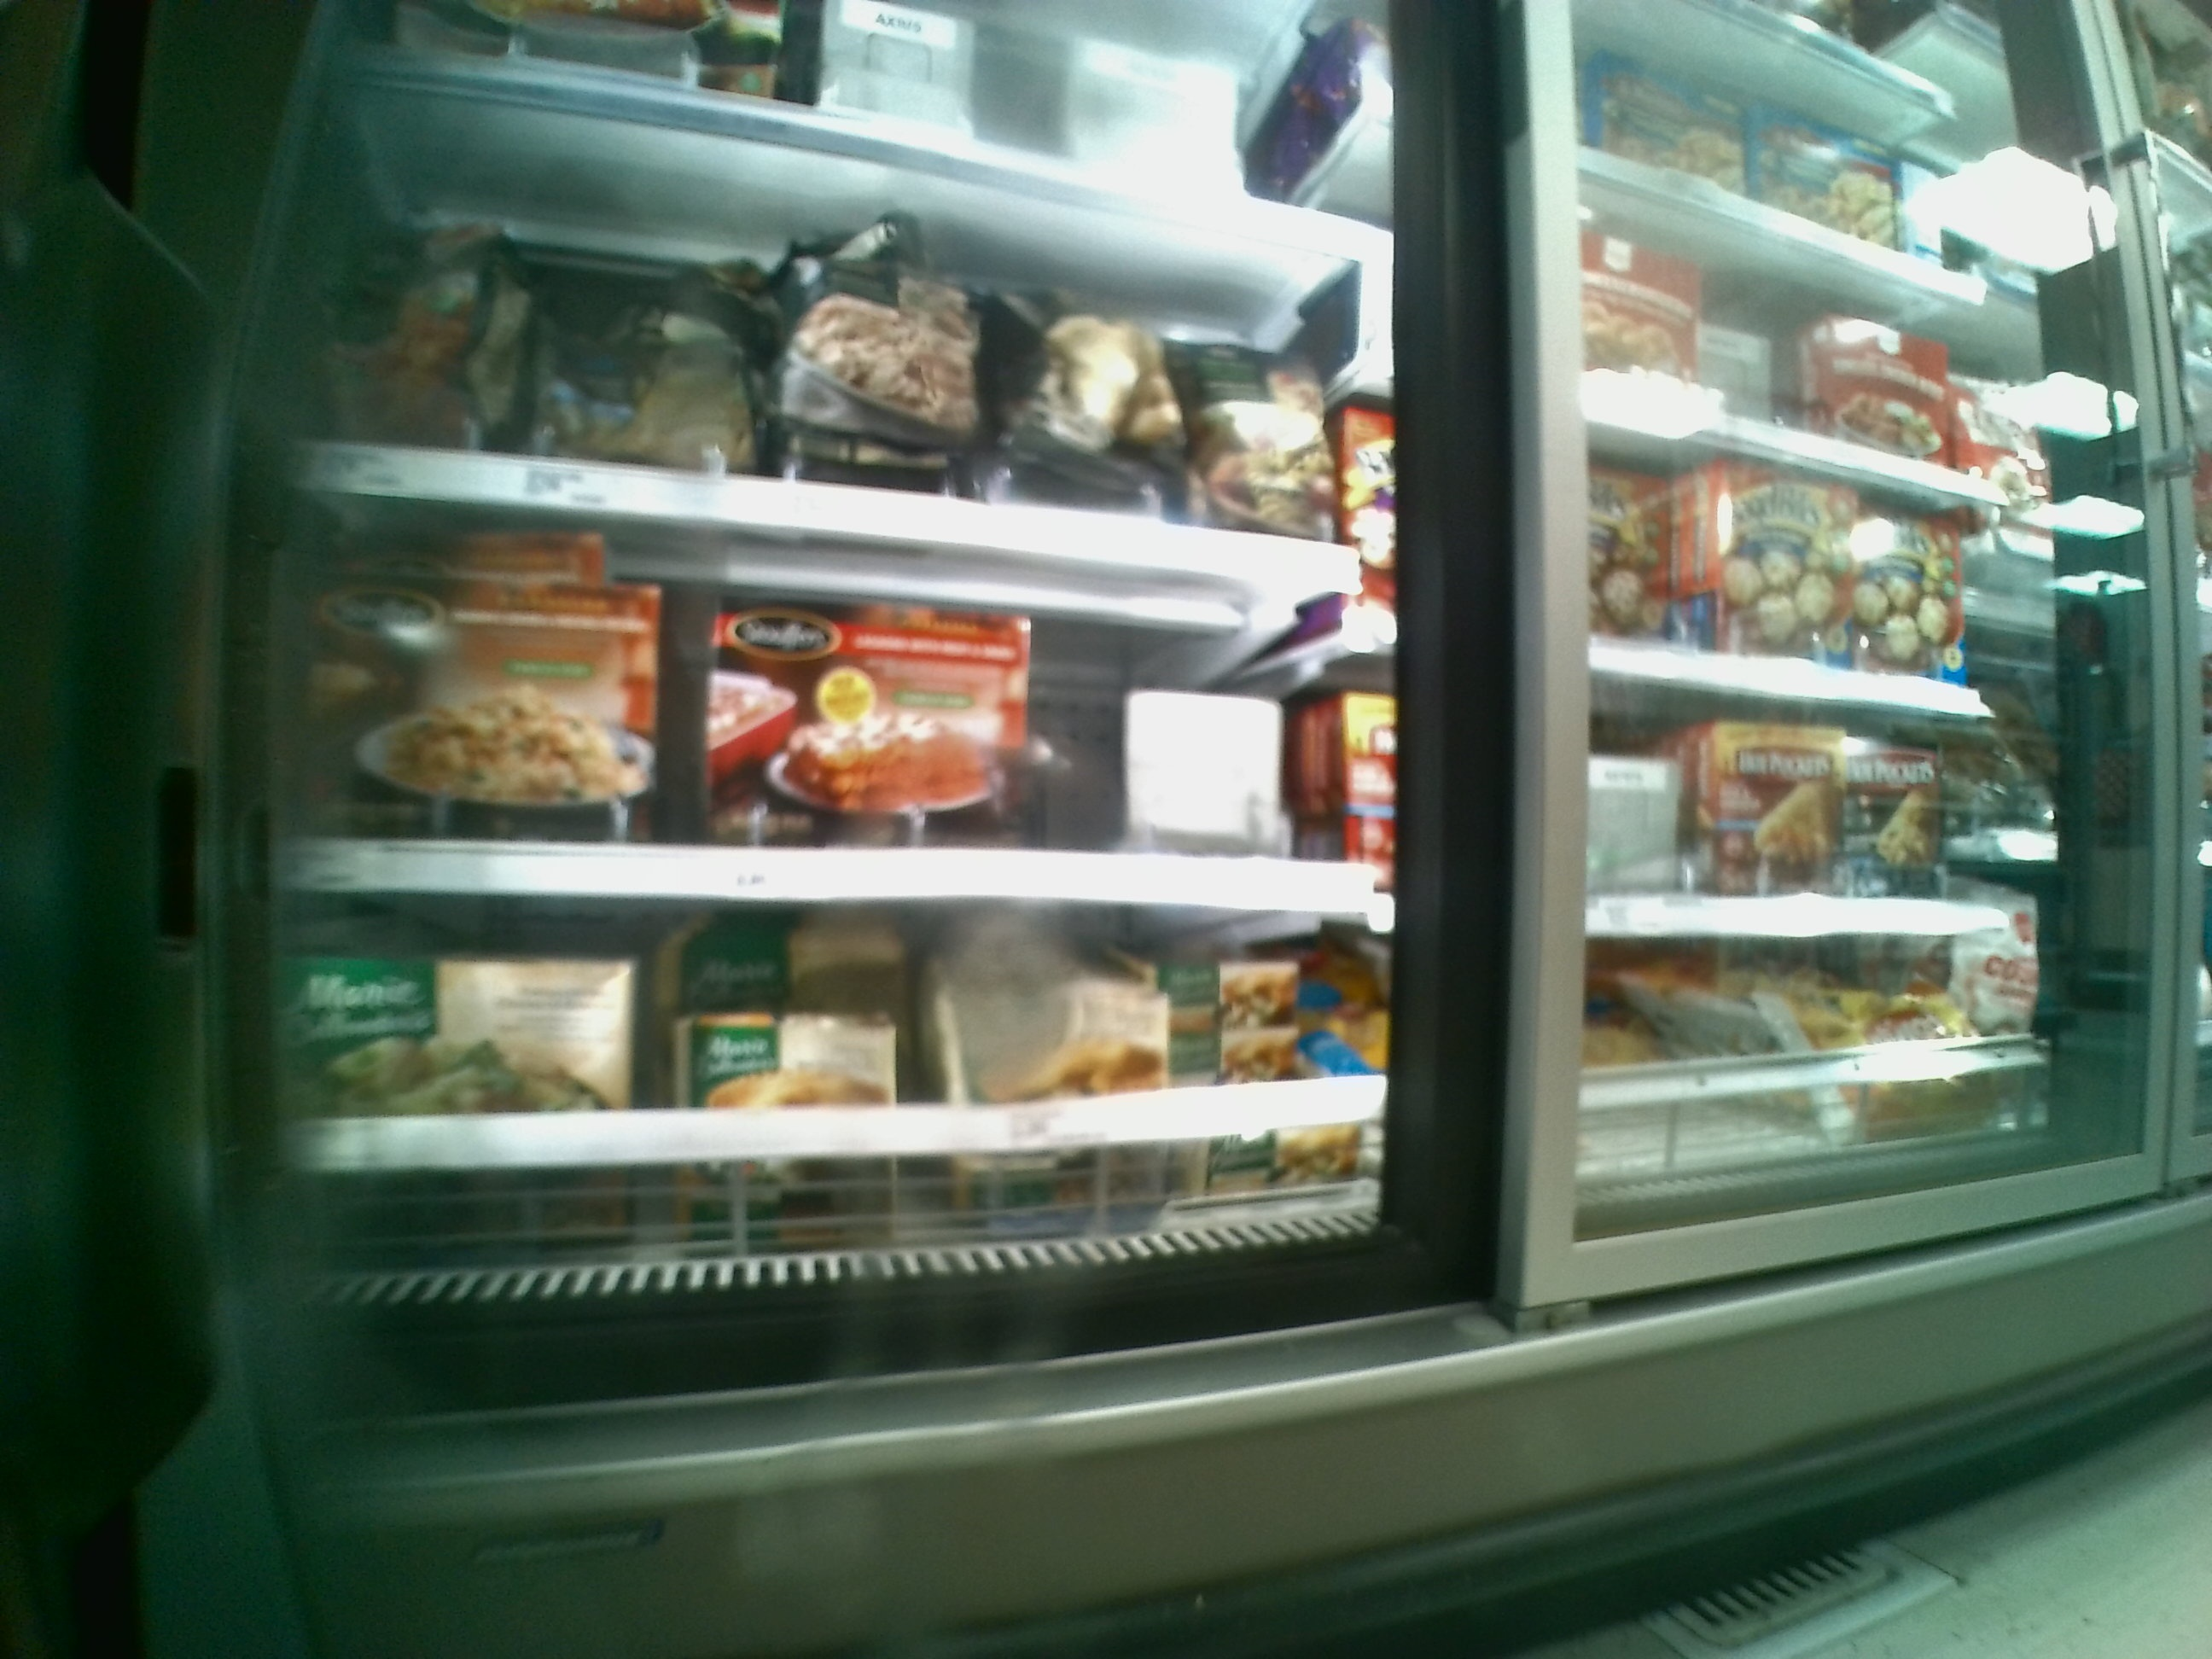shelf: (284, 915, 1379, 1277), (272, 566, 1381, 915), (284, 213, 1374, 556)
